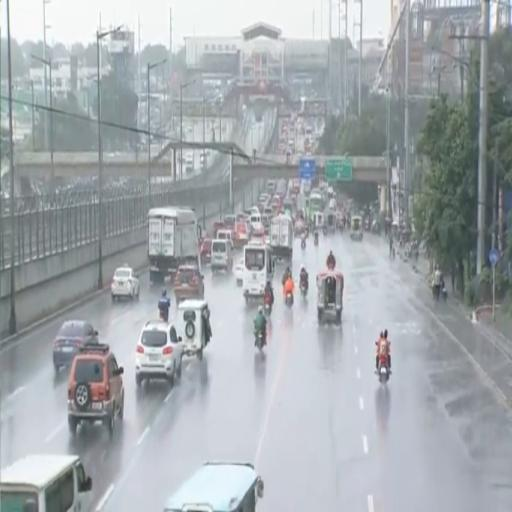car: (68, 344, 124, 435), (136, 320, 182, 386), (53, 320, 98, 374), (174, 265, 204, 302), (111, 265, 139, 300), (200, 238, 212, 264), (234, 257, 244, 286), (258, 194, 269, 205)
motorcycle: (376, 351, 390, 383), (377, 356, 390, 384), (255, 330, 265, 350), (299, 280, 308, 298), (265, 295, 272, 315), (159, 308, 168, 323), (285, 293, 293, 307), (314, 233, 318, 246), (301, 238, 305, 250), (323, 226, 327, 235)
truck: (148, 206, 200, 283), (270, 215, 293, 262)
